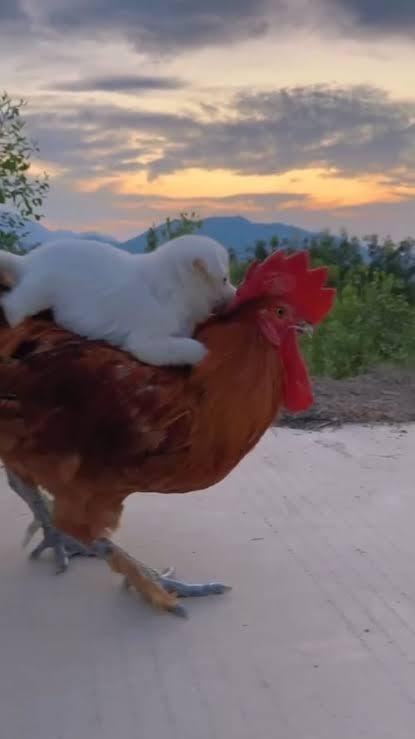non-dog: (0, 247, 337, 619)
puppy-dog: (0, 234, 236, 365)
